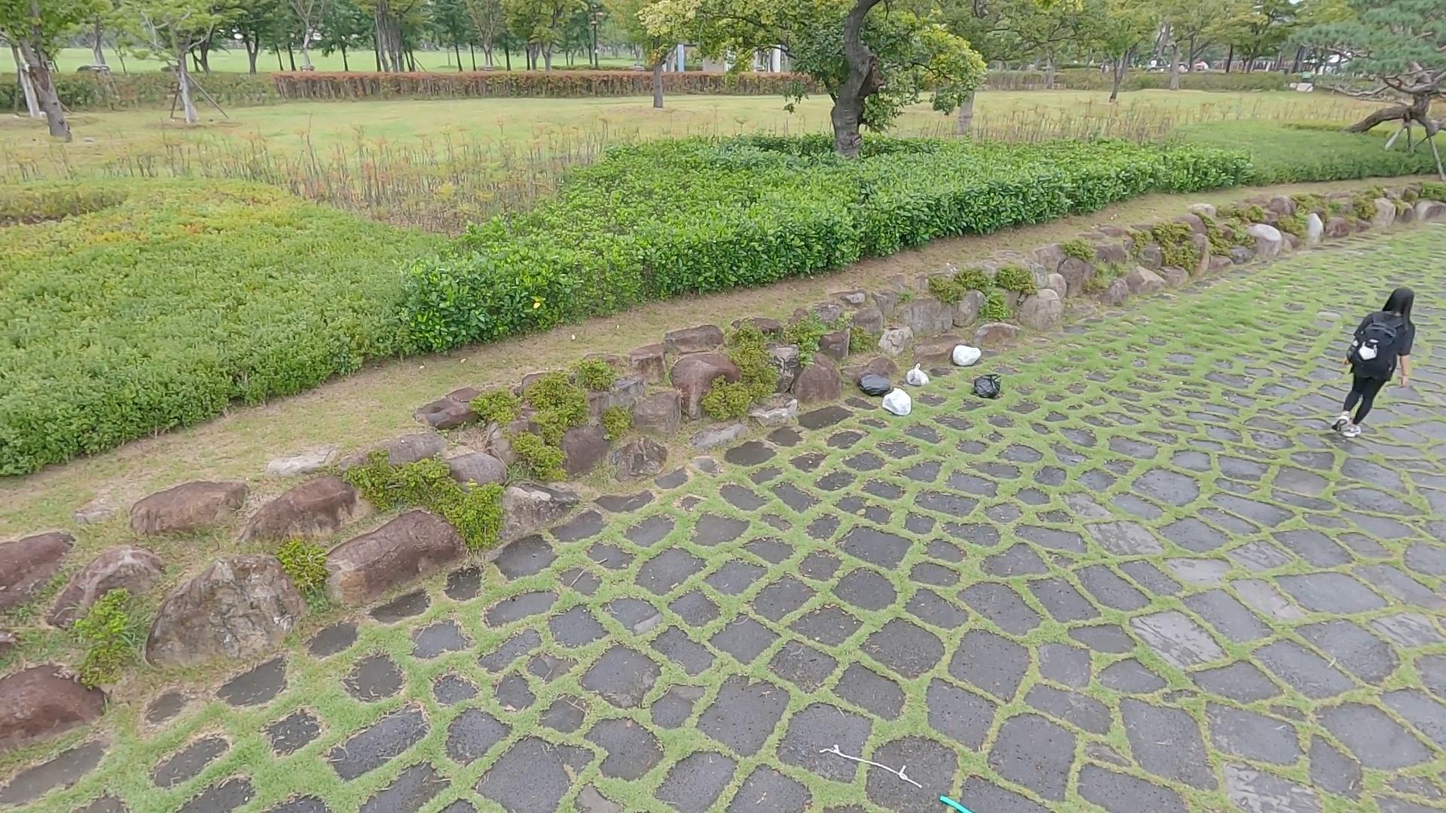person: (1324, 279, 1420, 448)
trash: (949, 339, 982, 371), (880, 385, 913, 417), (971, 370, 1003, 402), (856, 370, 891, 397), (903, 359, 932, 386)
